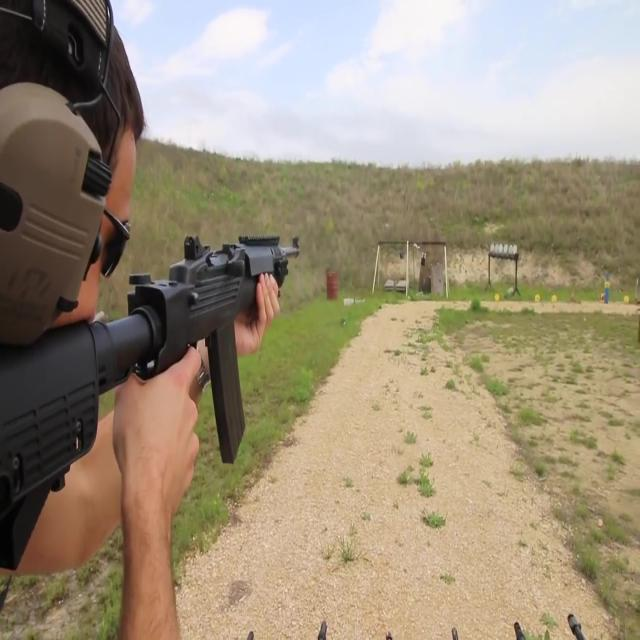Weapon: (0, 198, 310, 577), (559, 590, 592, 640), (377, 614, 417, 640), (507, 607, 537, 640), (242, 610, 274, 640), (316, 610, 342, 640), (444, 614, 463, 640)
